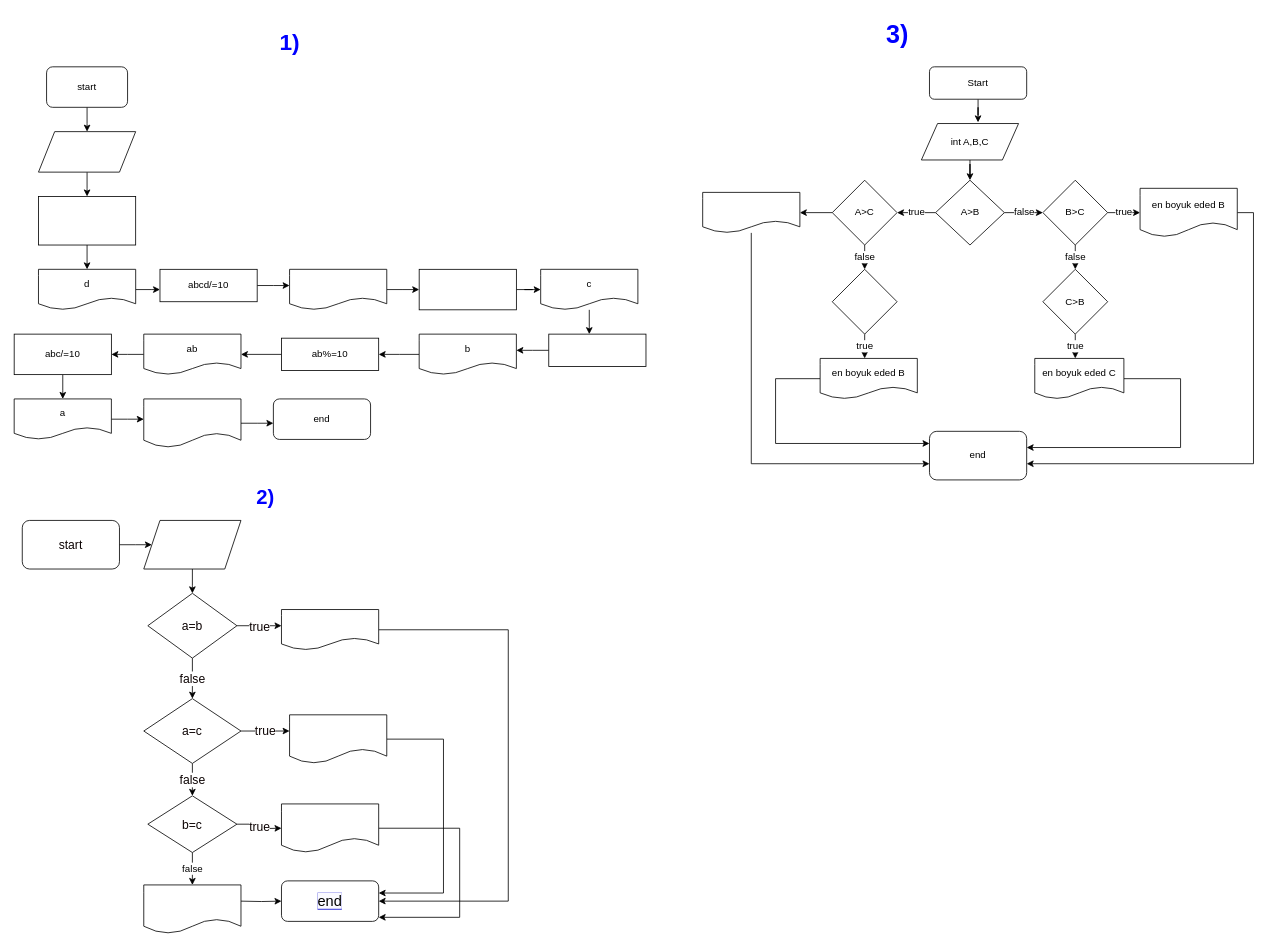
The diagram is 1274 pixels wide and 948 high, and some of its shapes have lost their labels. Each missing label, with the centre of its shape:
a ve b reqemleri ferqli deyil: [330,629]
a ve c reqemleri deyil: [338,738]
ab/=10: [597,350]
abc: [338,289]
abc%=10: [467,289]
abcd int sum=0: [87,151]
abcd%=10: [87,220]
b ve c reqemleri ferqli deyil: [330,828]
butun reqemler ferqlidir: [192,909]
C>A: [864,301]
en boyuk eded A: [751,212]
int abc: [192,544]
sum= a+b+c: [192,423]
